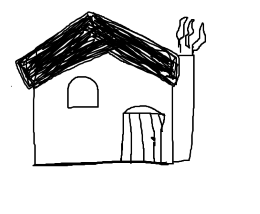door: (116, 98, 172, 169)
open_window: (63, 71, 104, 112)
shaded_roof: (14, 11, 180, 91)
smoking_chimney: (168, 14, 211, 96)
wall: (30, 53, 177, 169)
